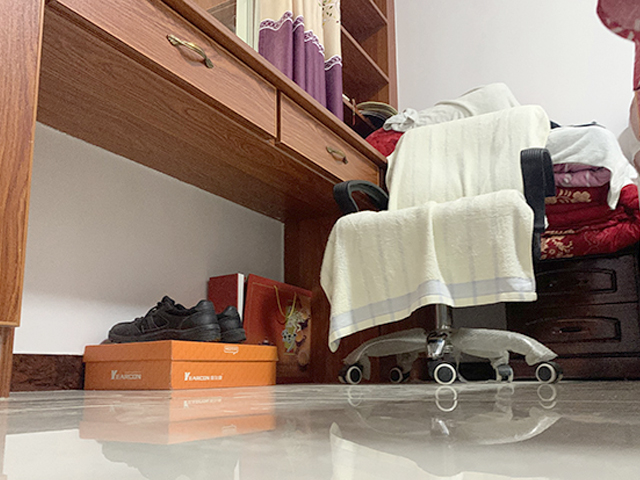cabinet: (502, 252, 640, 384)
stool: (320, 105, 562, 386)
